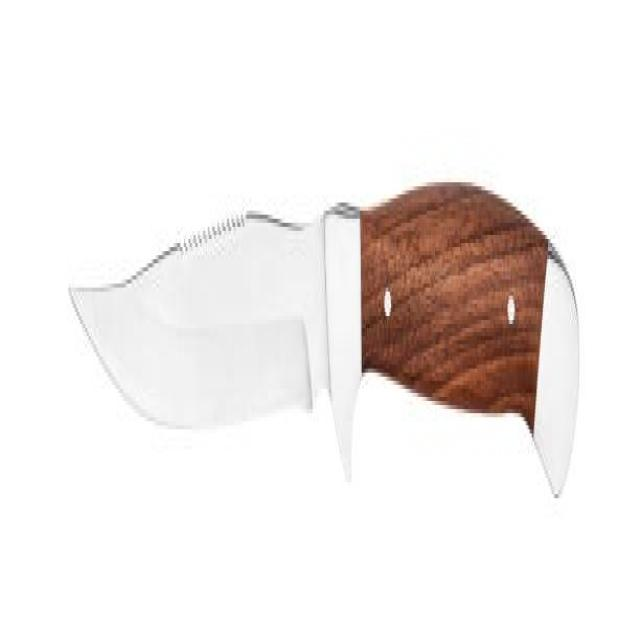knife: (59, 148, 583, 544)
